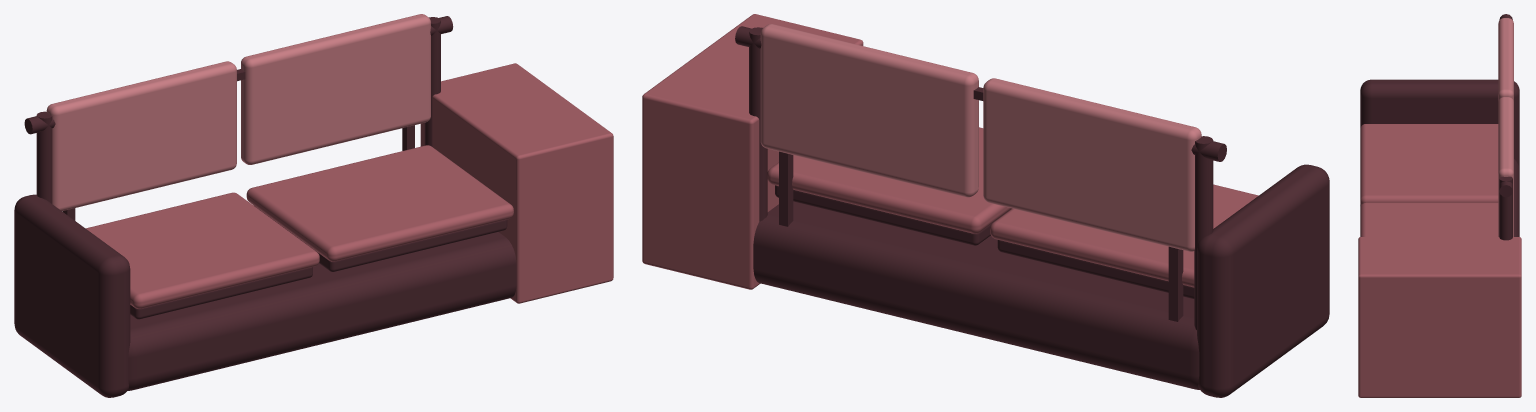
The picture shows the model from 3 angles, left to right: view 1: azimuth 30°, elevation 25°; view 2: azimuth 150°, elevation 25°; view 3: azimuth 270°, elevation 25°; orthographic projection. The views are drawn at different scales.
Visible parts, largest first — view 1: textile-rest-arm, arch-base, back-right, back-left, seat-right, arch-arm-left, seat-left, seat-support-right, seat-support-left, arch-post-left, arch-post-right; view 2: arch-base, back-right, back-left, textile-rest-arm, arch-arm-left, seat-right, seat-left, seat-support-right, seat-support-left, arch-post-left, arch-post-right, back-support-left (+1 smaller); view 3: textile-rest-arm, seat-left, arch-arm-left, seat-right, back-right, back-left, arch-post-right, arch-base, arch-shoulder-right.
Part boxes in pixels (<box>): textile-rest-arm: <box>420,63,613,303</box>; arch-base: <box>127,232,516,390</box>; back-right: <box>241,14,430,164</box>; back-left: <box>46,61,236,210</box>; seat-right: <box>246,145,513,261</box>; arch-arm-left: <box>14,194,130,397</box>; seat-left: <box>86,192,319,308</box>; seat-support-right: <box>254,206,507,271</box>; seat-support-left: <box>130,267,312,319</box>; arch-post-left: <box>36,111,52,203</box>; arch-post-right: <box>424,17,440,146</box>; arch-base: <box>753,201,1199,389</box>; back-right: <box>760,24,978,197</box>; back-left: <box>983,78,1201,251</box>; textile-rest-arm: <box>642,14,863,289</box>; arch-arm-left: <box>1197,164,1329,397</box>; seat-right: <box>767,127,1011,233</box>; seat-left: <box>990,184,1258,287</box>; seat-support-right: <box>775,185,1011,245</box>; seat-support-left: <box>997,240,1194,298</box>; arch-post-left: <box>1194,136,1213,329</box>; arch-post-right: <box>749,27,767,221</box>; back-support-left: <box>1168,246,1183,321</box>; textile-rest-arm: <box>1358,237,1521,397</box>; seat-left: <box>1360,124,1498,204</box>; arch-arm-left: <box>1360,79,1519,169</box>; seat-right: <box>1360,202,1498,236</box>; back-right: <box>1498,97,1513,236</box>; back-left: <box>1498,18,1513,101</box>; arch-post-right: <box>1499,176,1512,240</box>; arch-base: <box>1360,159,1519,236</box>; arch-shoulder-right: <box>1499,181,1512,197</box>.
Size of the model in its own units: 2.51 by 1.07 by 0.84.
